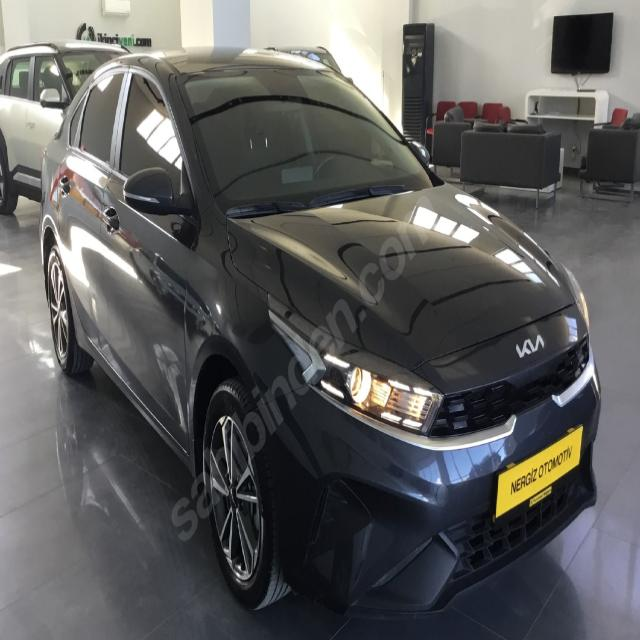kia: (512, 330, 550, 362)
